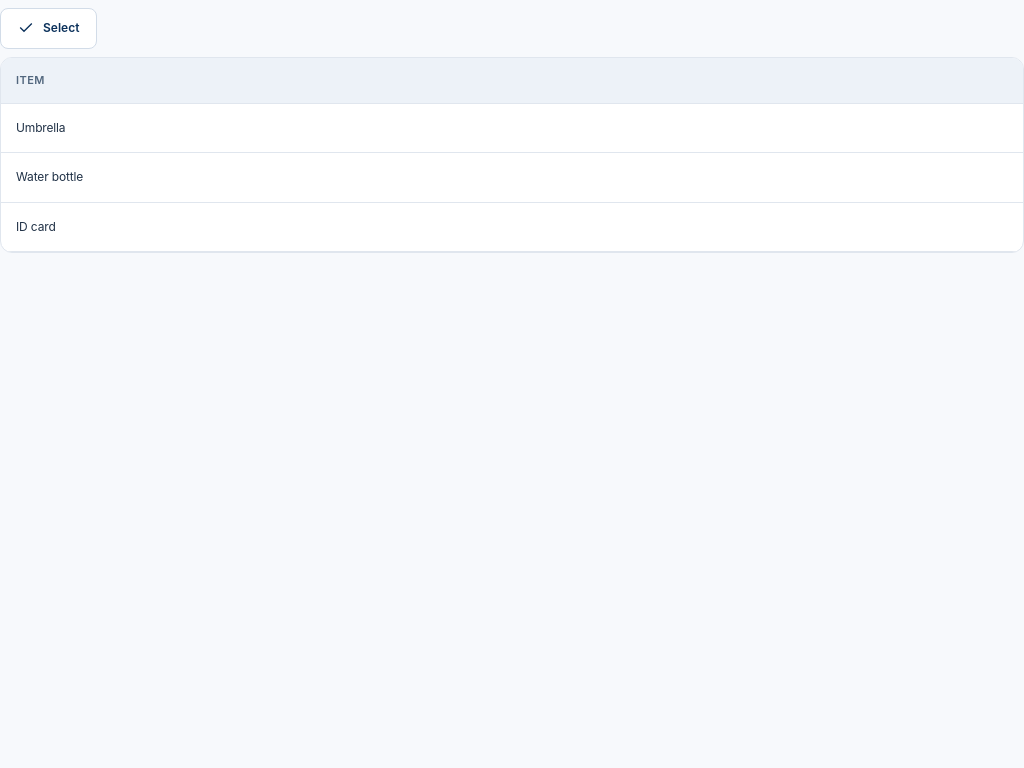
Scenario: BulkDeletableTable › BULK-2 select all, untick one, then delete only the selected rows
Later steps or results of the test are not shown.
What coordinates should you click on to do the following:
click the button "Select"
I would click on:
 (49, 28)
Its box is top-left (0, 8), bottom-right (97, 49).
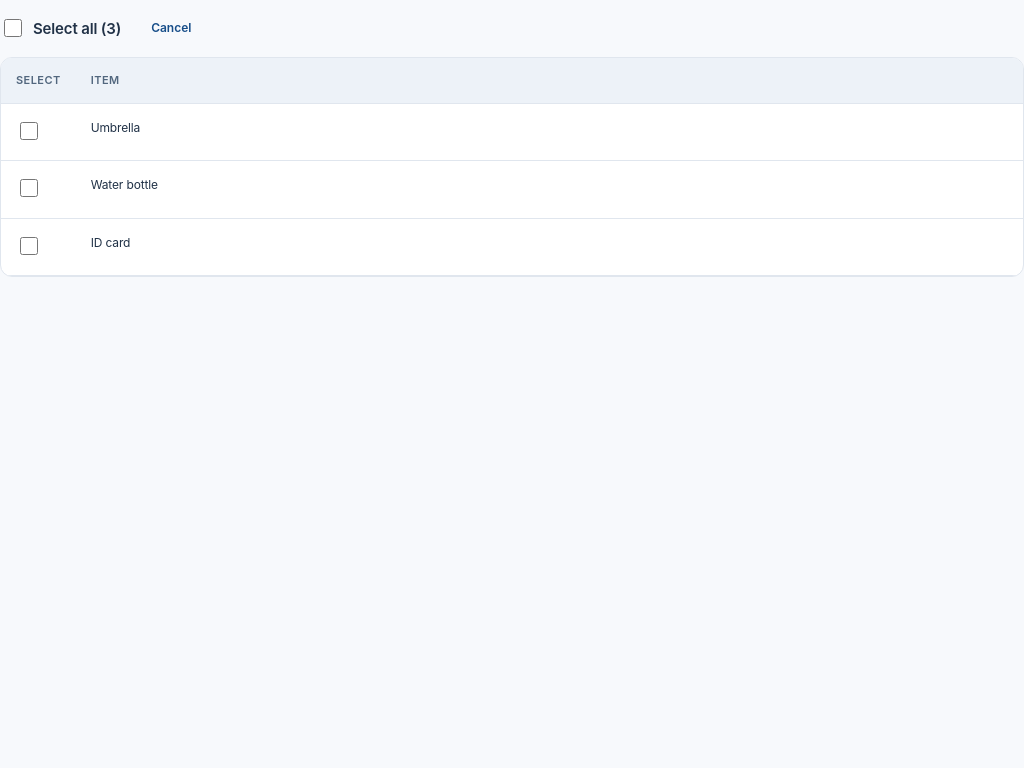
What coordinates should you click on to do the following:
click the checkbox labelled "Select all (3)"
I would click on:
 (13, 28)
Its box is top-left (4, 19), bottom-right (22, 37).
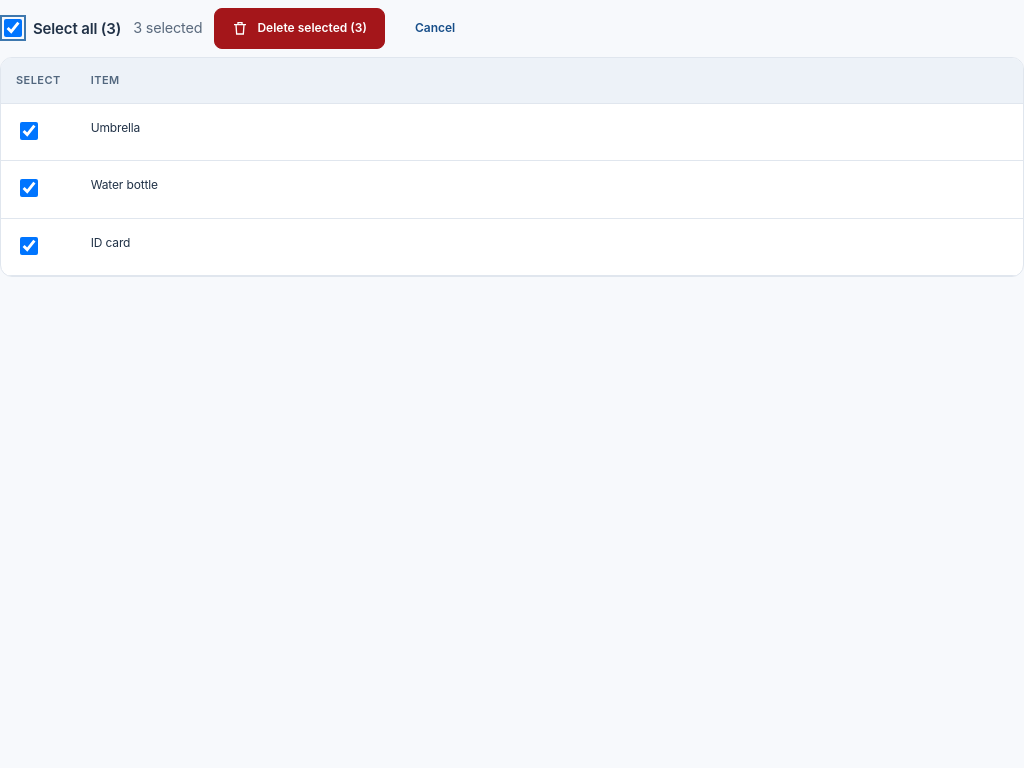
Check: the text "3 selected" is shown, box top-left (133, 17), bottom-right (202, 39)
What coordinates should you click on to do the following:
click the checkbox named "Select ID card"
I would click on:
 (29, 246)
Its box is top-left (20, 237), bottom-right (38, 255).
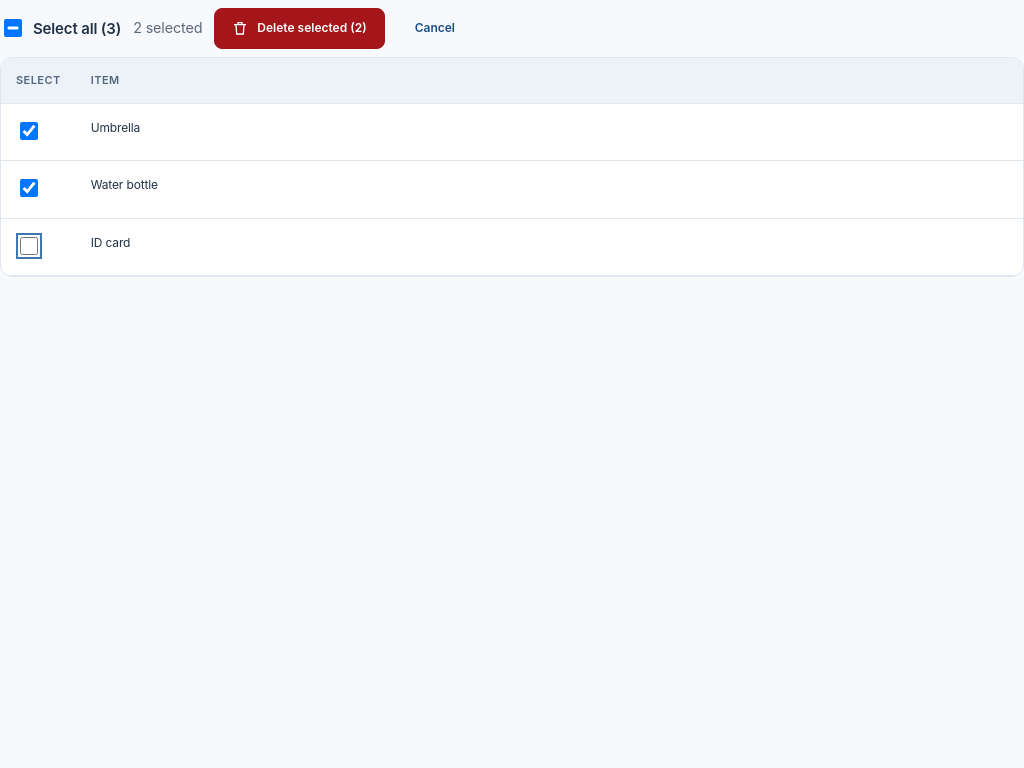
What coordinates should you click on to do the following:
click the button "Delete selected (2)"
I would click on:
 (299, 28)
Its box is top-left (214, 8), bottom-right (385, 49).
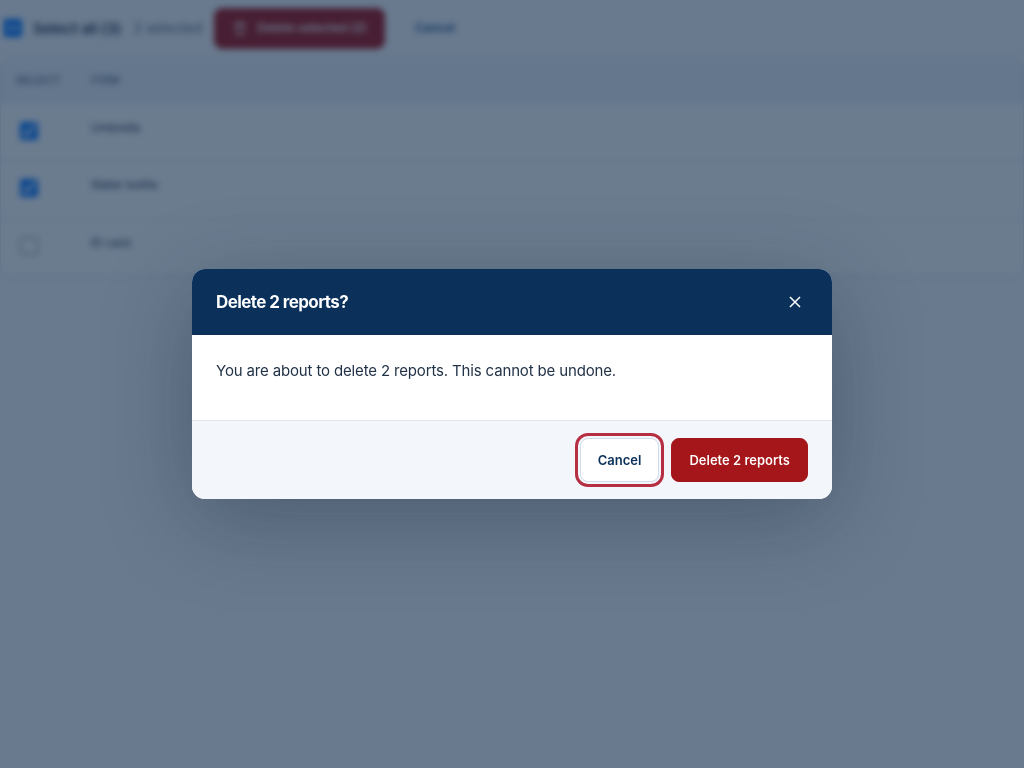
Check: the heading "Delete 2 reports?" is shown, box top-left (216, 292), bottom-right (348, 313)
